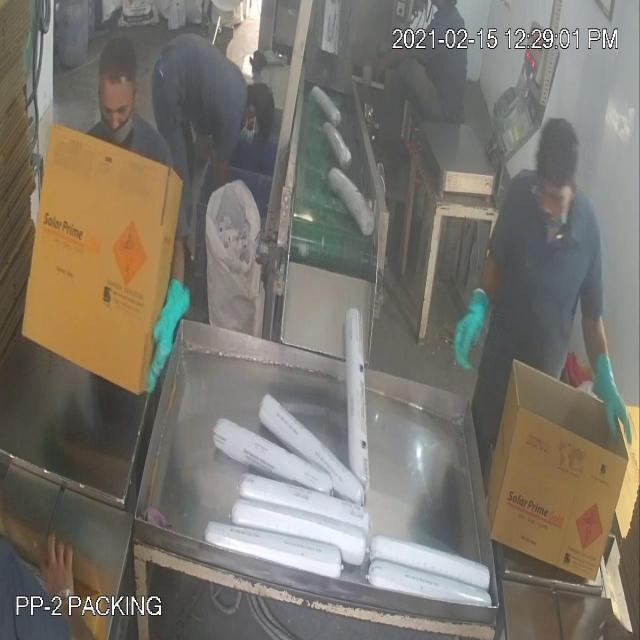Gloves: (52, 58, 611, 576)
